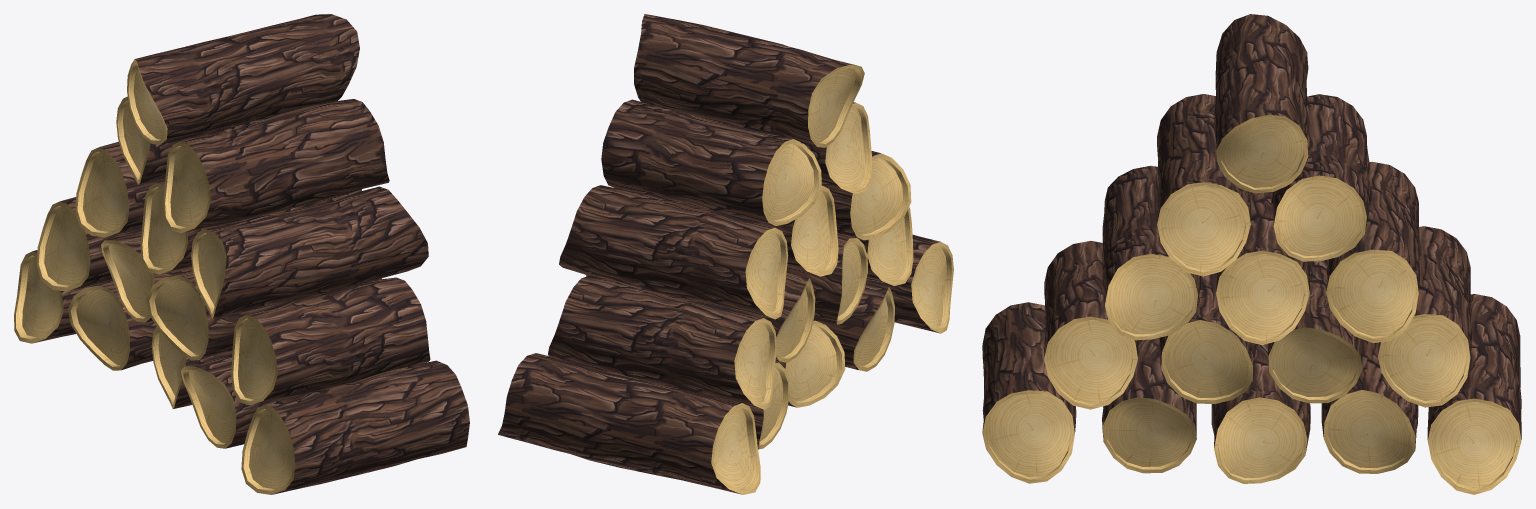
Rendered from Troncos Decoracion.fbx.
3 renders of one model, left to right at view 1: azimuth 30°, elevation 25°; view 2: azimuth 150°, elevation 25°; view 3: azimuth 270°, elevation 25°, orthographic. The views are drawn at different scales.
Visible parts, largest first — view 1: Log_Pile_2; view 2: Log_Pile_2; view 3: Log_Pile_2.
Part boxes in pixels (left/top/right/bottom): Log_Pile_2: left=14, top=14, right=469, bottom=494; Log_Pile_2: left=498, top=14, right=953, bottom=494; Log_Pile_2: left=982, top=14, right=1521, bottom=494.
Size of the model in its own units: 181 by 241 by 323.
